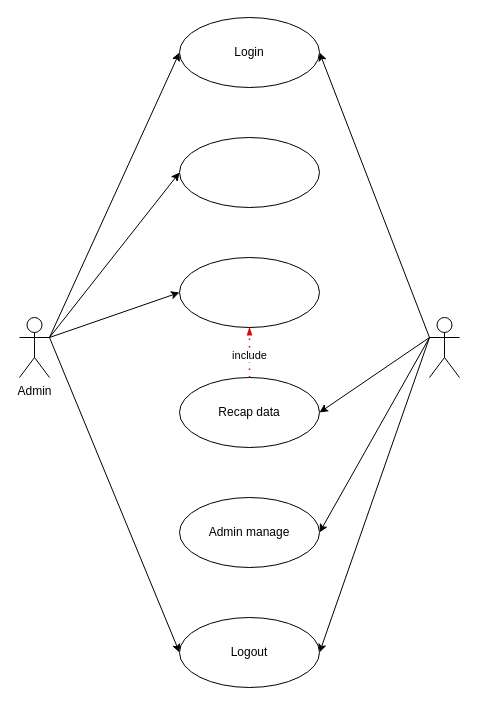
The diagram is 480 pixels wide and 705 high, and some of its shapes have lost their labels. Here are the shapes that lost their labels. From the top down, the centre of each, then its label:
pixel 249 172: Manage employee data
pixel 249 292: Print report
pixel 444 347: Master
